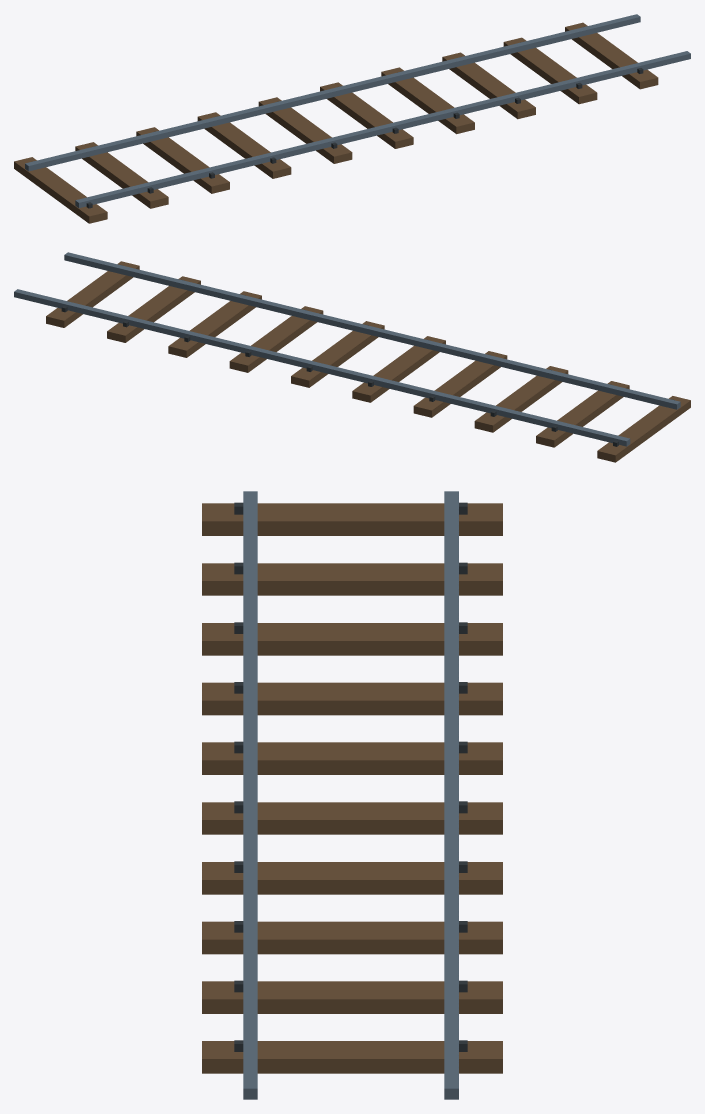
Rendered from TracksStraight.FBX.
3 views of the same model, one above another, from view 1: azimuth 30°, elevation 25°; view 2: azimuth 150°, elevation 25°; view 3: azimuth 270°, elevation 25° (orthographic). The views are drawn at different scales.
Parts seen in each view (by area): view 1: Box018; view 2: Box018; view 3: Box018.
Boxes of the visible parts, box(x1,y1,x2,y2) form: Box018: box(14, 14, 690, 223); Box018: box(14, 252, 690, 462); Box018: box(202, 491, 502, 1099).
Size of the model in its own units: 10 by 0.2086 by 2.13.
